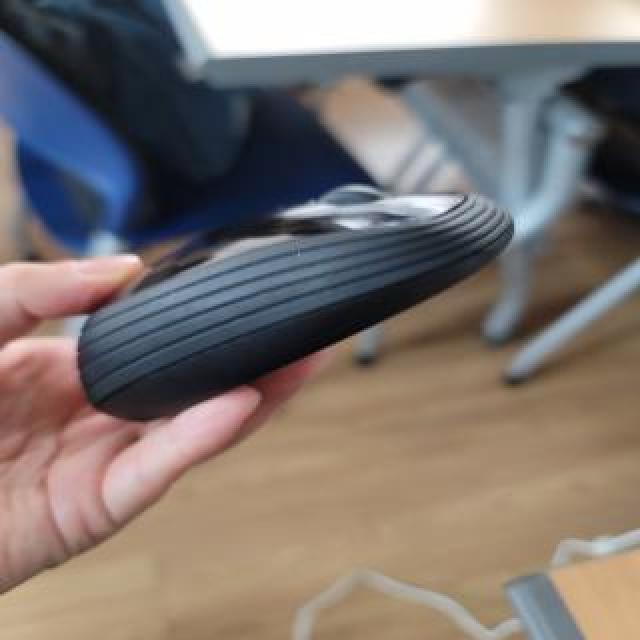mouse: (69, 174, 502, 405)
